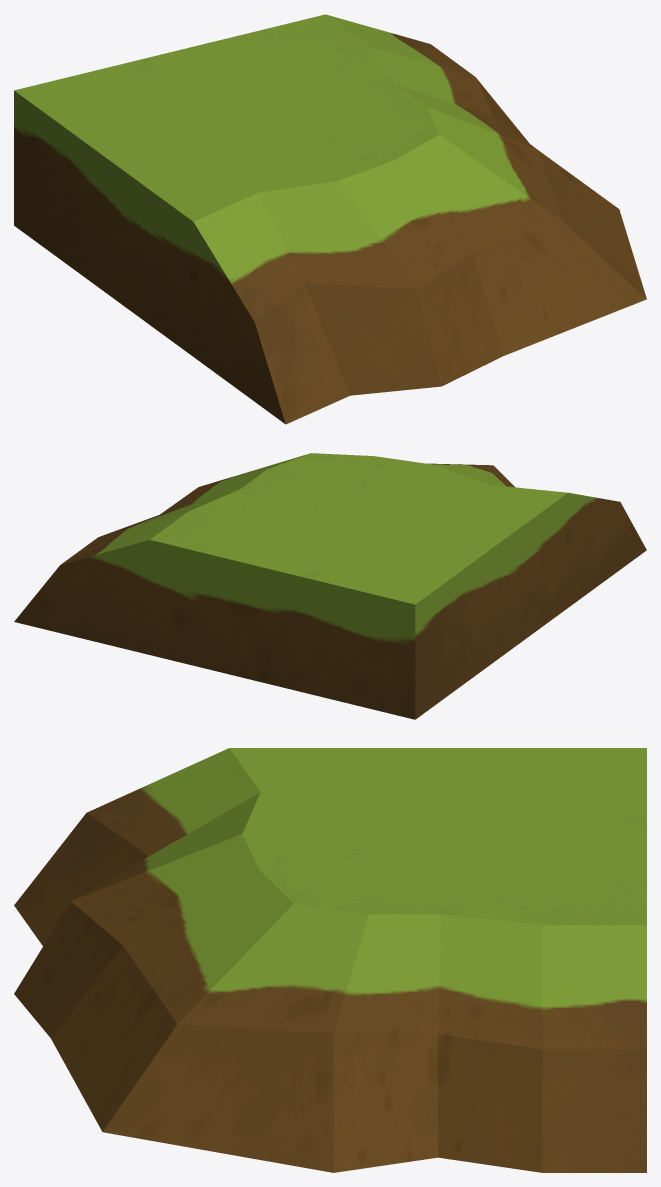
File: cliffCorner.fbx
3 renders of one model, top to bottom at view 1: azimuth 30°, elevation 25°; view 2: azimuth 150°, elevation 25°; view 3: azimuth 270°, elevation 25°, orthographic. The views are drawn at different scales.
Parts seen in each view (by area): view 1: cliffCorner; view 2: cliffCorner; view 3: cliffCorner.
Boxes of the visible parts, bbox=[...] form: cliffCorner: bbox=[14, 14, 646, 424]; cliffCorner: bbox=[14, 453, 646, 719]; cliffCorner: bbox=[14, 748, 646, 1172].
Bounding box in the file's own units: 104 × 28.57 × 104.
Materials: 1 (1 with a texture image).
